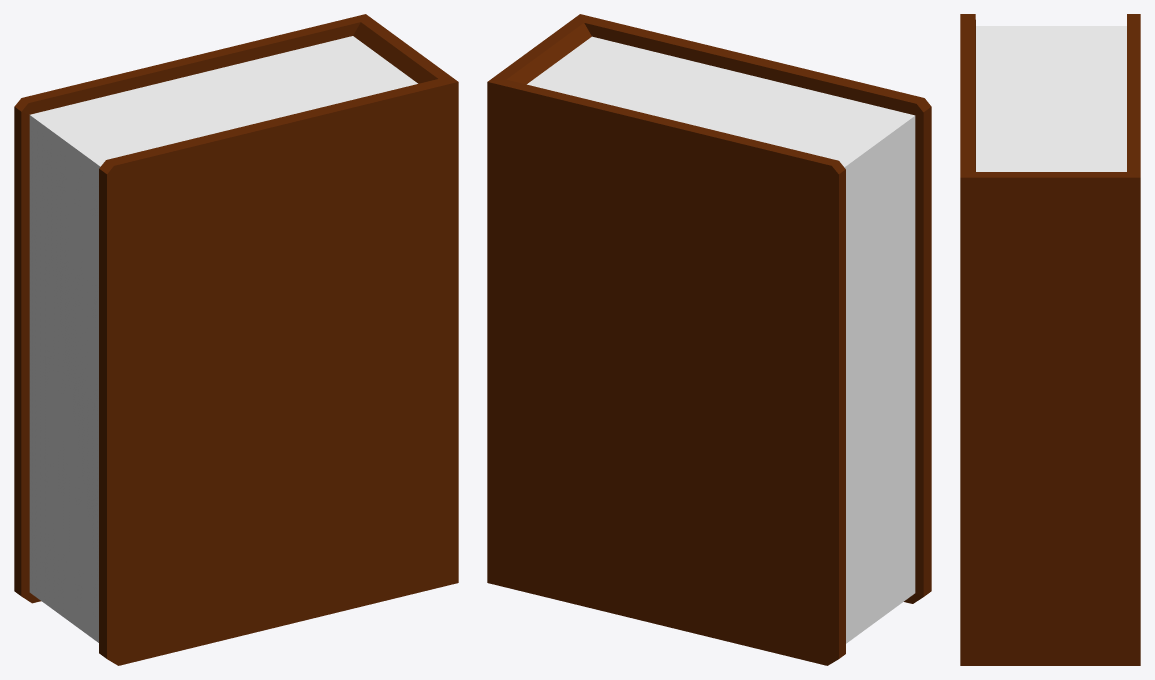
The model's file is book01.gltf.
3 views of the same model, side by side, from view 1: azimuth 30°, elevation 25°; view 2: azimuth 150°, elevation 25°; view 3: azimuth 270°, elevation 25° (orthographic). The views are drawn at different scales.
Parts seen in each view (by area): view 1: Cube.001; view 2: Cube.001; view 3: Cube.001.
Part boxes in pixels (x1,y1,x2,y2): Cube.001: [14, 14, 458, 665]; Cube.001: [487, 14, 931, 665]; Cube.001: [960, 14, 1140, 665].
Bounding box in the file's own units: 0.1678 × 0.2286 × 0.0766.
1 material, 1 textured.
